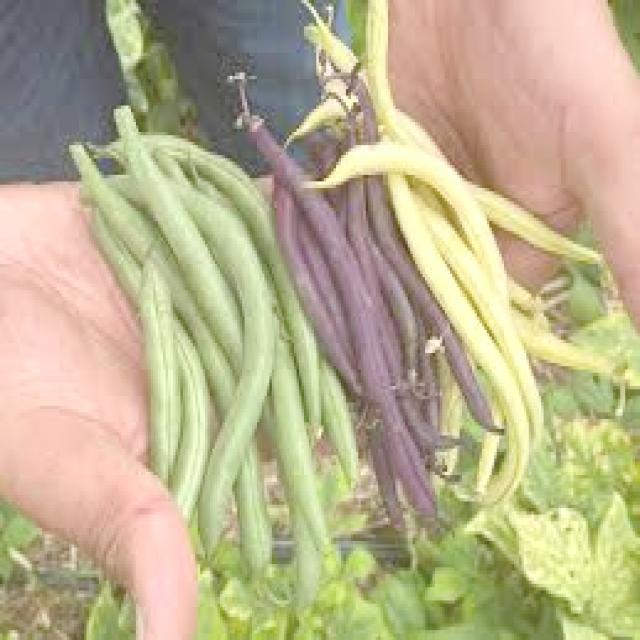Beans: (64, 98, 328, 548), (237, 32, 462, 546)
